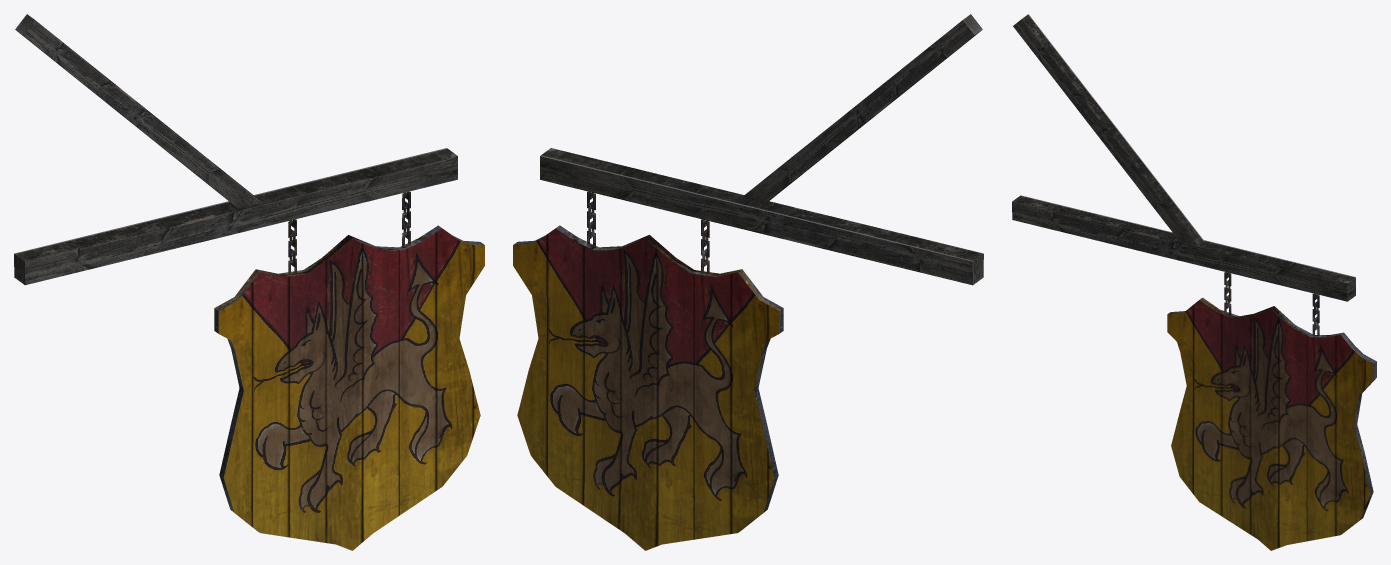
Rendered from emblem02_LOD01.fbx.
3 views of the same model, side by side, from view 1: azimuth 30°, elevation 25°; view 2: azimuth 150°, elevation 25°; view 3: azimuth 330°, elevation 25° (orthographic). The views are drawn at different scales.
Parts seen in each view (by area): view 1: Mesh Object; view 2: Mesh Object; view 3: Mesh Object.
Boxes of the visible parts, box(x1,y1,x2,y2) form: Mesh Object: box(14, 14, 484, 550); Mesh Object: box(513, 14, 983, 550); Mesh Object: box(1012, 14, 1376, 550).
Size of the model in its own units: 1.52 by 1.91 by 0.0628.
